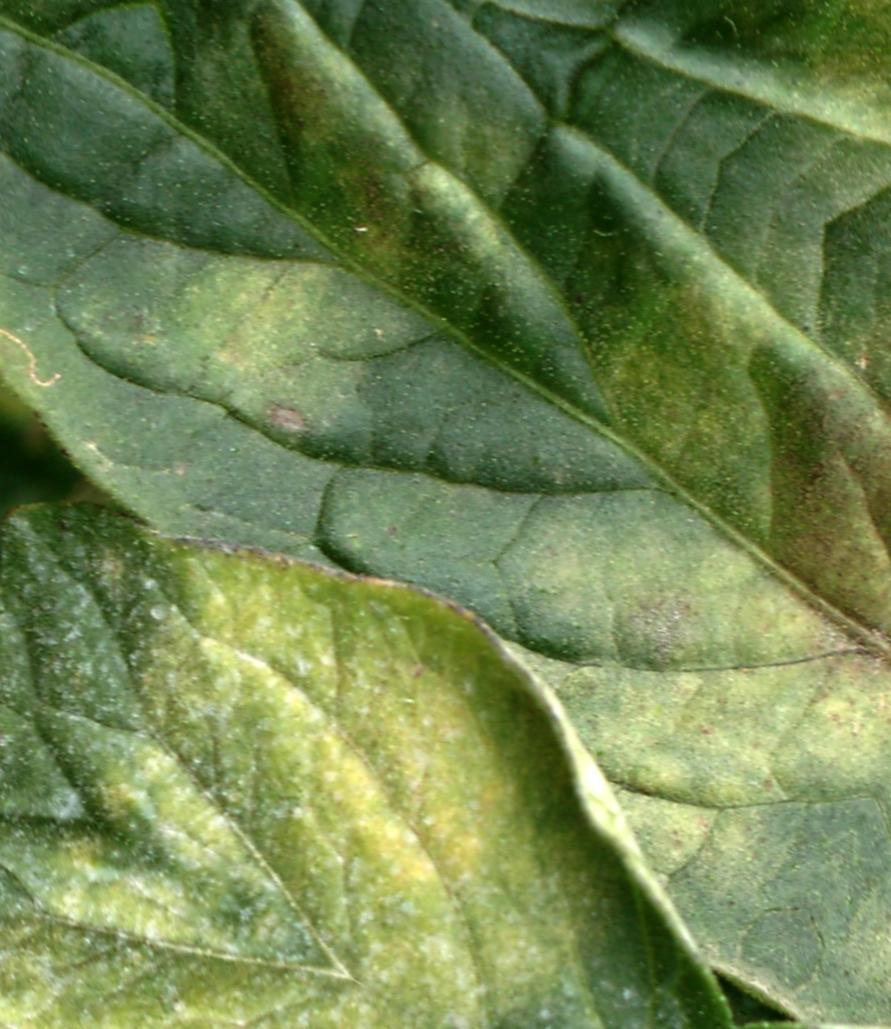Tomato mold leaf: (0, 0, 891, 995), (0, 313, 844, 1029)
